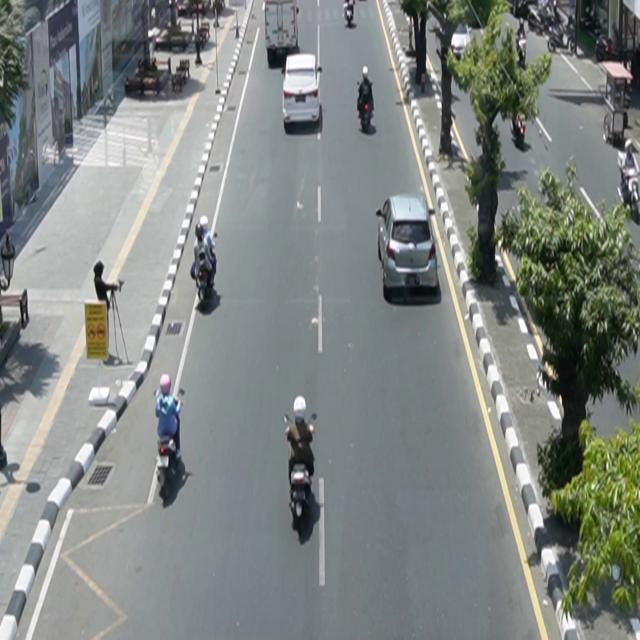car: (377, 194, 440, 295), (282, 54, 323, 127)
